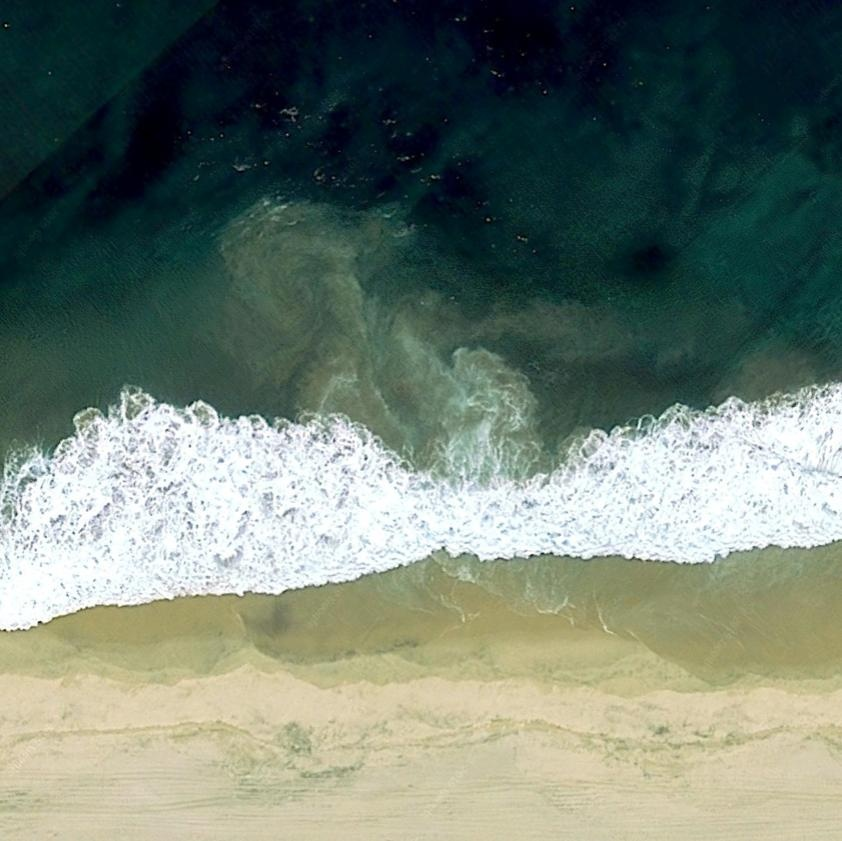rip_current: (240, 168, 567, 509)
